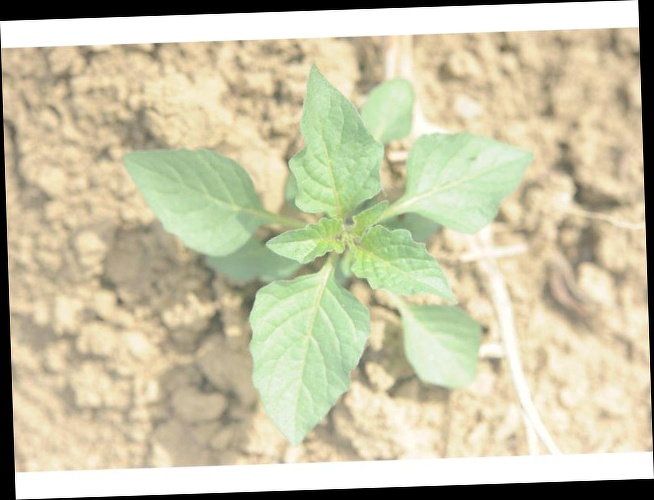nightshade: (126, 61, 537, 442)
